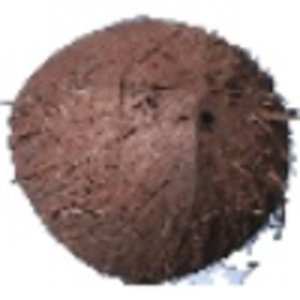coco: (5, 16, 300, 287)
